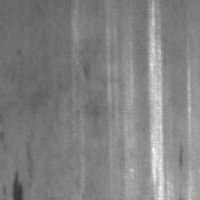inclusion: (9, 169, 27, 200)
scratches: (109, 31, 140, 193), (147, 2, 165, 200)
